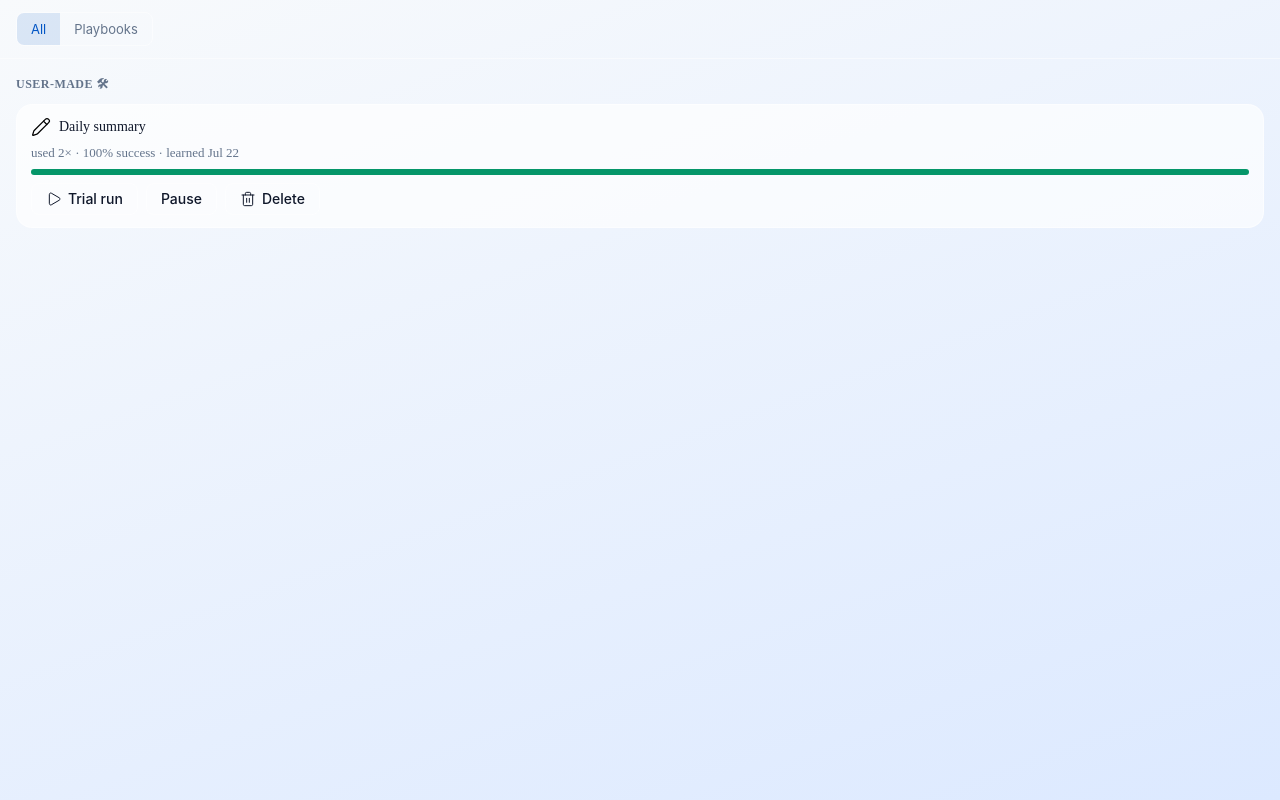
Test case: trial dialog takes focus, traps Tab, closes on Escape, and restores focus
The width and height of the screenshot is (1280, 800).
Step 1. Click the button "Trial run" → (84, 199), box [31,183,138,215]
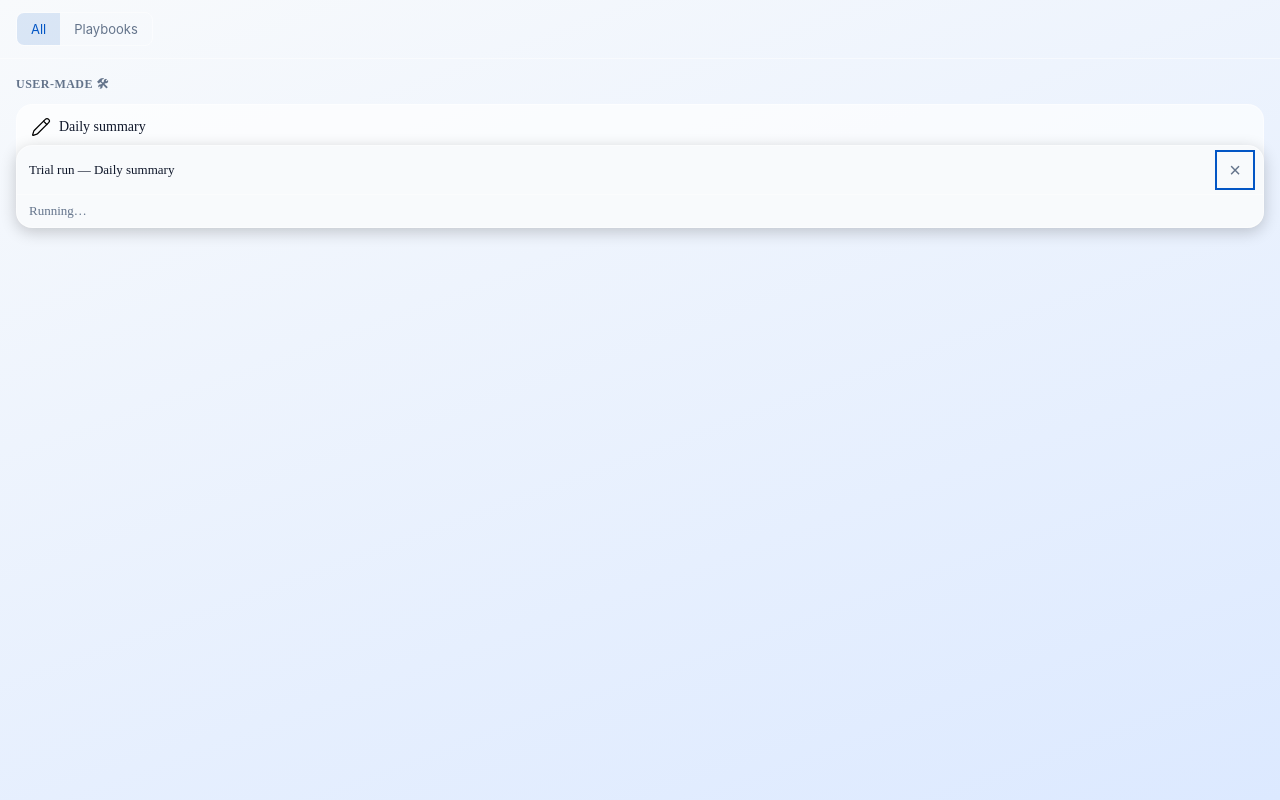
Step 2. Press Tab in the dialog "Trial run — Daily summary", box [16,145,1264,228]
Step 3. Press Escape in the dialog "Trial run — Daily summary", box [16,145,1264,228]
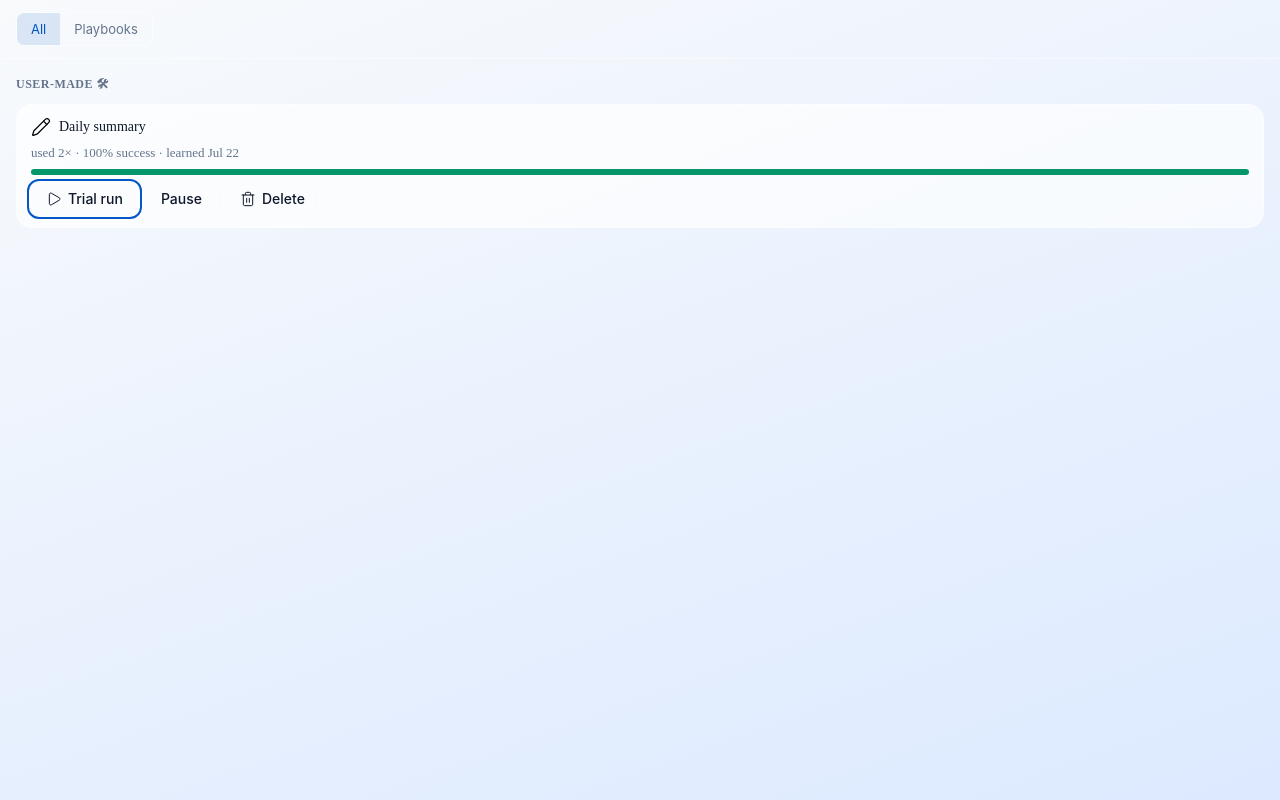
Result: the dialog is gone
